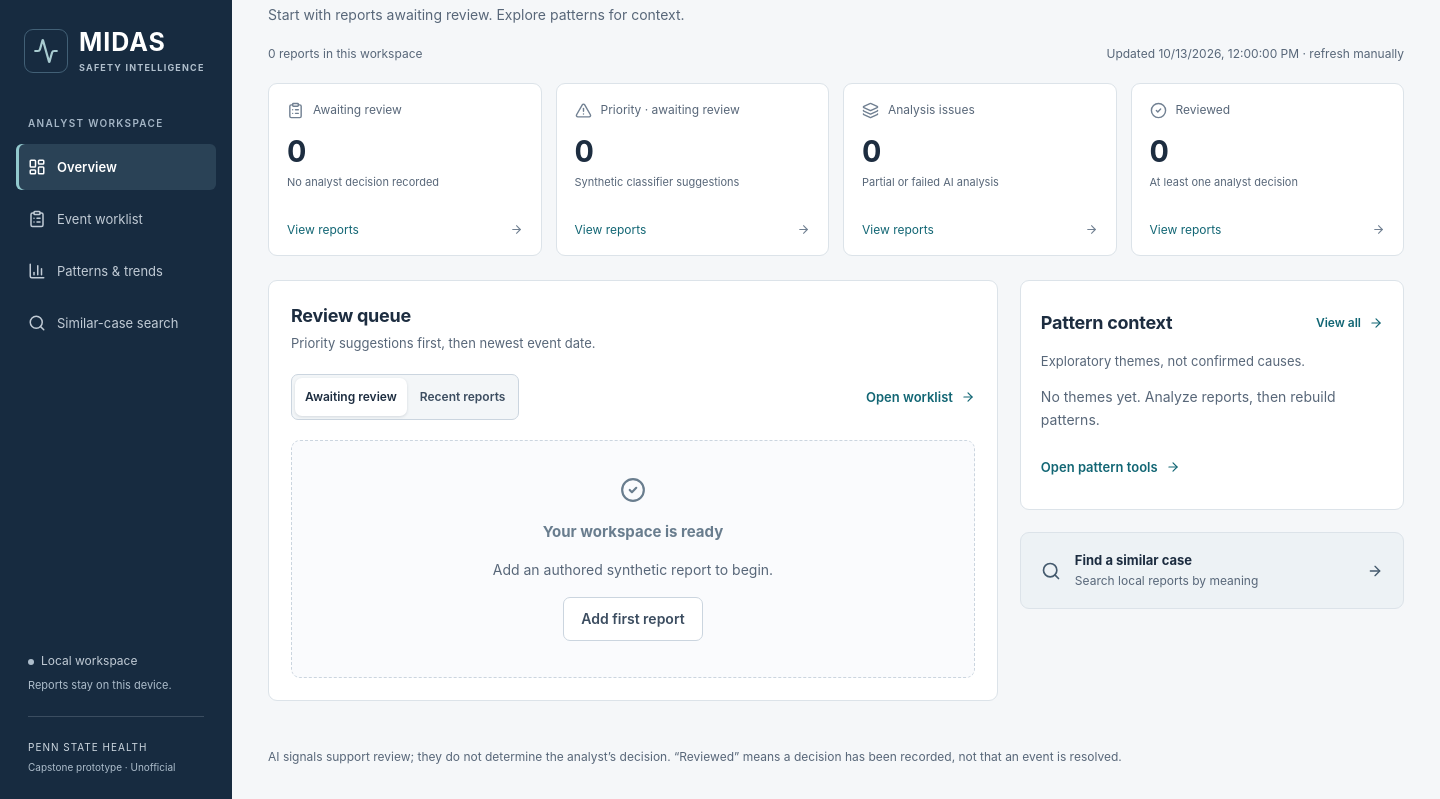
Test: analyst UX regression checks › offers a real first-report action when the dashboard is empty
The width and height of the screenshot is (1440, 799).
(page scrolled)
expect the heading "Your workspace is ready" is shown: met, box [543,522,723,541]
What coordinates should you click on to do the following:
click the link "Add first report"
I would click on:
 (633, 619)
Its box is [563,597,703,641].
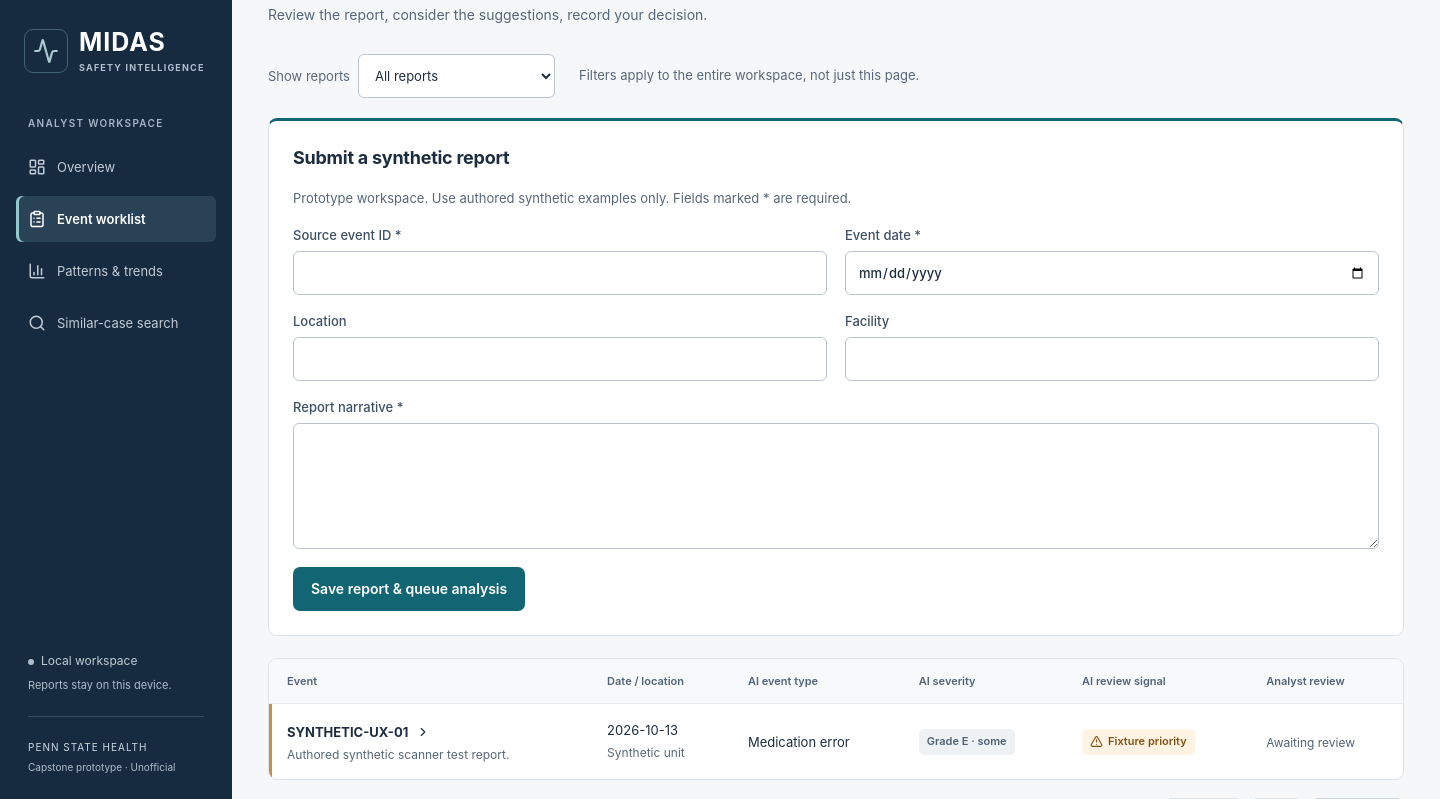
expect the heading "Submit a synthetic report" is shown: met, box [293,147,509,168]
